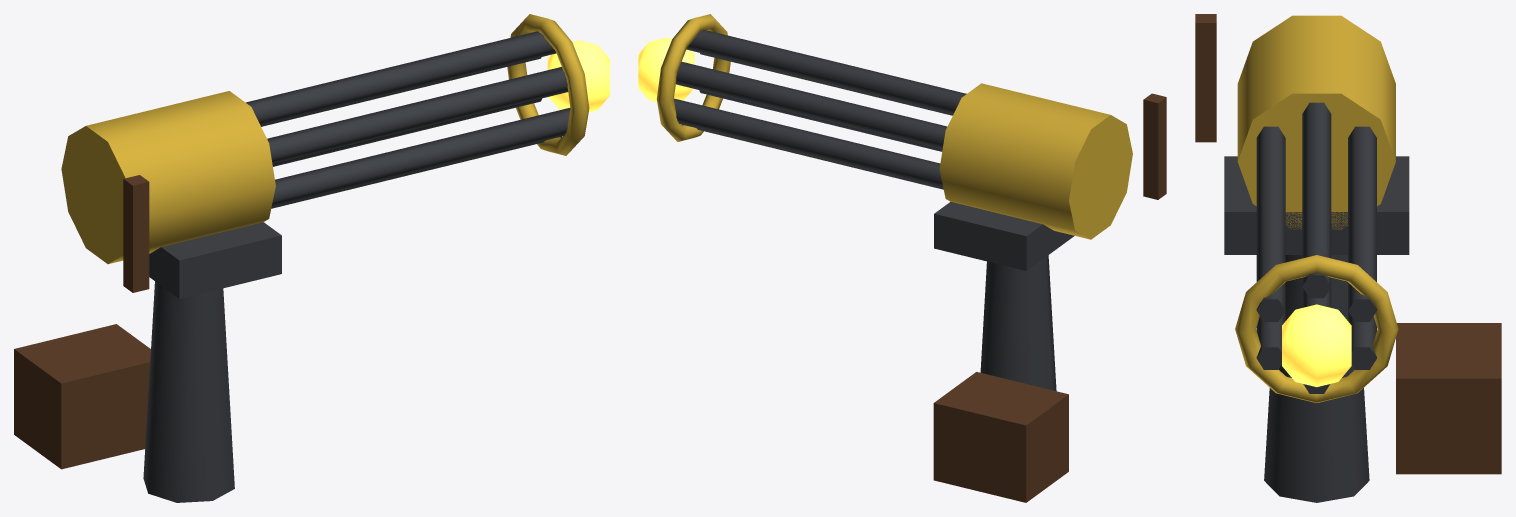
Rendered from gatling-gun.glb.
3 renders of one model, left to right at view 1: azimuth 30°, elevation 25°; view 2: azimuth 150°, elevation 25°; view 3: azimuth 270°, elevation 25°, orthographic. The views are drawn at different scales.
Visible parts, largest first — view 1: Mesh_Drum, Mesh_Post, Mesh_AmmoBox, Mesh_Barrel1, Mesh_Barrel2, Mesh_Barrel0, Mesh_Yoke, Mesh_MuzzleRing, Mesh_Crank, Mesh_MuzzleGlow, Mesh_Barrel4; view 2: Mesh_Drum, Mesh_AmmoBox, Mesh_Post, Mesh_Barrel5, Mesh_Barrel4, Mesh_Barrel0, Mesh_Yoke, Mesh_MuzzleRing, Mesh_Crank, Mesh_MuzzleGlow, Mesh_Barrel2; view 3: Mesh_Drum, Mesh_AmmoBox, Mesh_Post, Mesh_MuzzleRing, Mesh_Yoke, Mesh_Barrel0, Mesh_Barrel1, Mesh_MuzzleGlow, Mesh_Barrel5, Mesh_Crank, Mesh_Barrel4, Mesh_Barrel2 (+1 smaller).
Part boxes in pixels (x1,y1,x2,y2): Mesh_Drum: (61,91,275,264); Mesh_Post: (143,281,234,502); Mesh_AmmoBox: (14,324,150,469); Mesh_Barrel1: (267,67,568,163); Mesh_Barrel2: (271,108,570,206); Mesh_Barrel0: (246,31,556,125); Mesh_Yoke: (149,222,281,298); Mesh_MuzzleRing: (507,14,589,155); Mesh_Crank: (123,175,149,292); Mesh_MuzzleGlow: (547,40,609,111); Mesh_Barrel4: (272,98,541,166); Mesh_Drum: (939,83,1132,239); Mesh_AmmoBox: (933,372,1068,502); Mesh_Post: (980,255,1056,391); Mesh_Barrel5: (676,62,947,149); Mesh_Barrel4: (674,98,943,187); Mesh_Barrel0: (686,29,966,114); Mesh_Yoke: (934,201,1074,270); Mesh_MuzzleRing: (656,14,730,141); Mesh_Crank: (1143,93,1166,199); Mesh_MuzzleGlow: (638,37,694,102); Mesh_Barrel2: (699,90,942,151); Mesh_Drum: (1237,15,1395,229); Mesh_AmmoBox: (1396,323,1501,474); Mesh_Post: (1264,255,1369,502); Mesh_MuzzleRing: (1235,255,1398,402); Mesh_Yoke: (1224,156,1409,254); Mesh_Barrel0: (1302,102,1331,298); Mesh_Barrel1: (1256,126,1285,321); Mesh_MuzzleGlow: (1282,304,1351,387); Mesh_Barrel5: (1348,126,1376,321); Mesh_Crank: (1195,14,1216,142); Mesh_Barrel4: (1348,311,1376,369); Mesh_Barrel2: (1256,311,1285,369).
Size of the model in its own units: 2.59 by 1.76 by 1.16.
